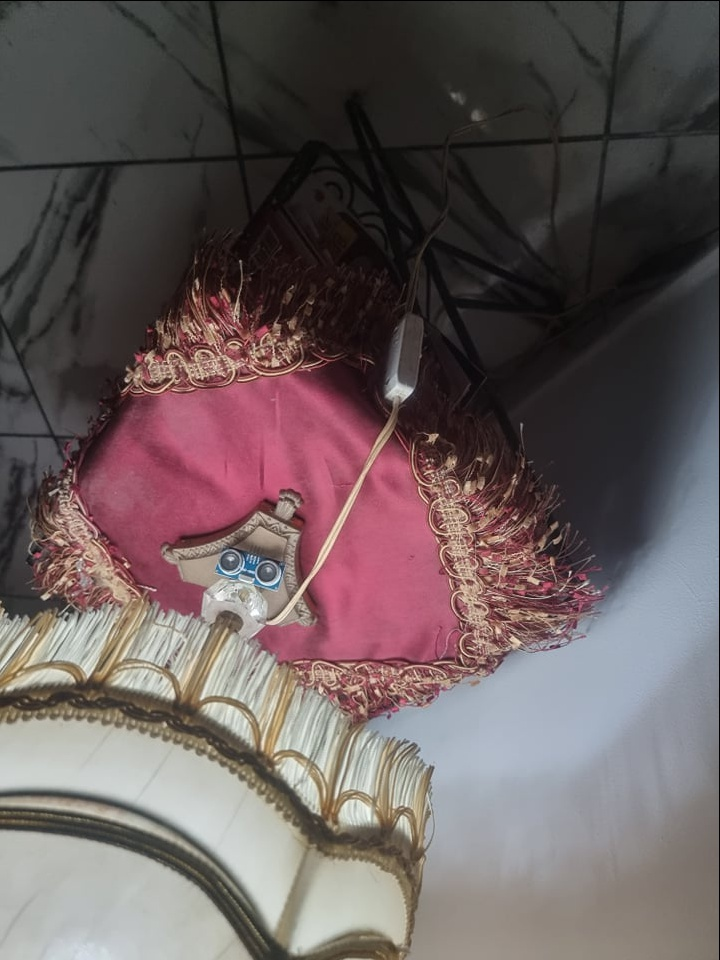SENSOR: (214, 545, 289, 590)
